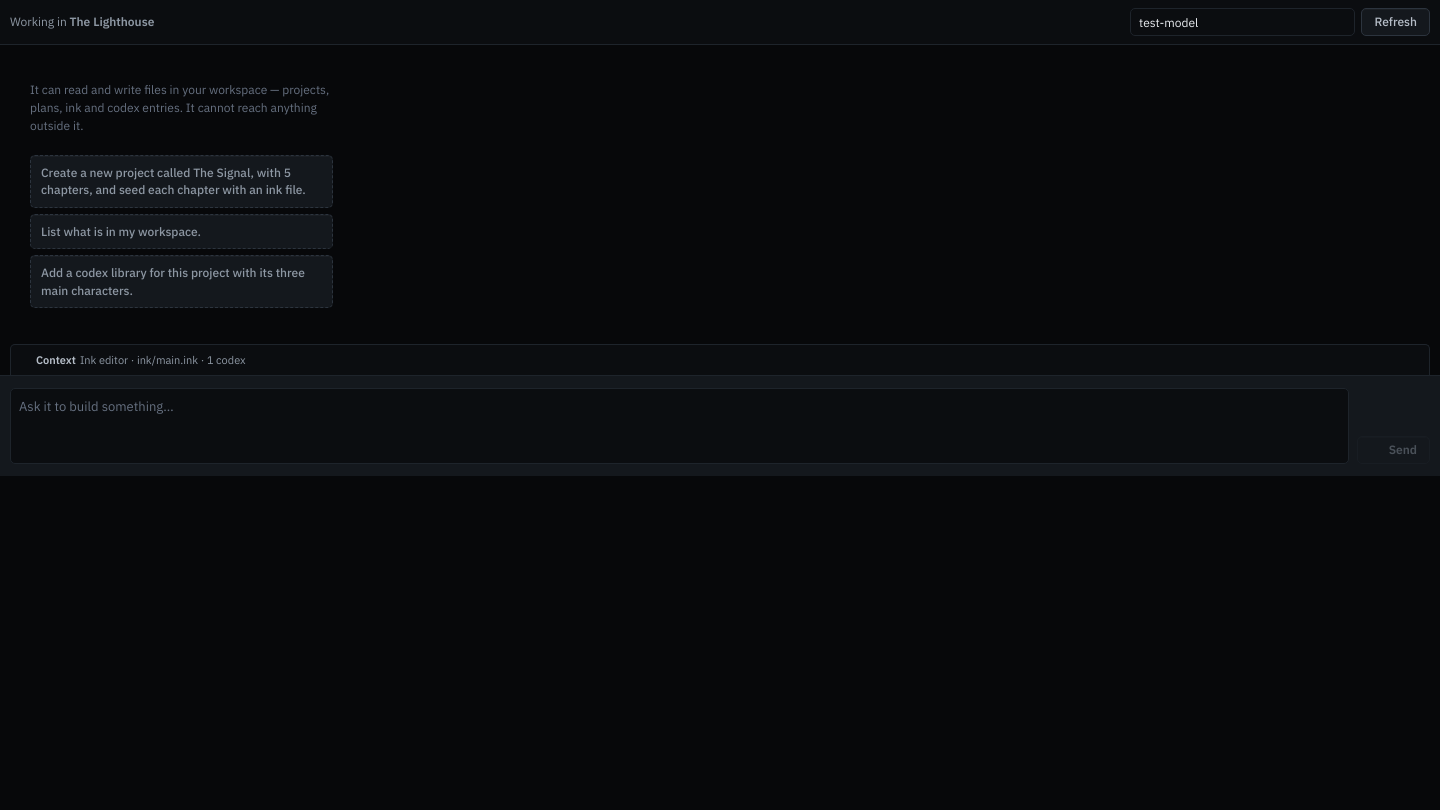
Test: AssistantPanel › shows the detected context above the input and expands its details
Click the button "Context Ink editor · ink/main.ink · 1 codex" at (56, 360), box x1=11 y1=345 x2=1429 y2=375
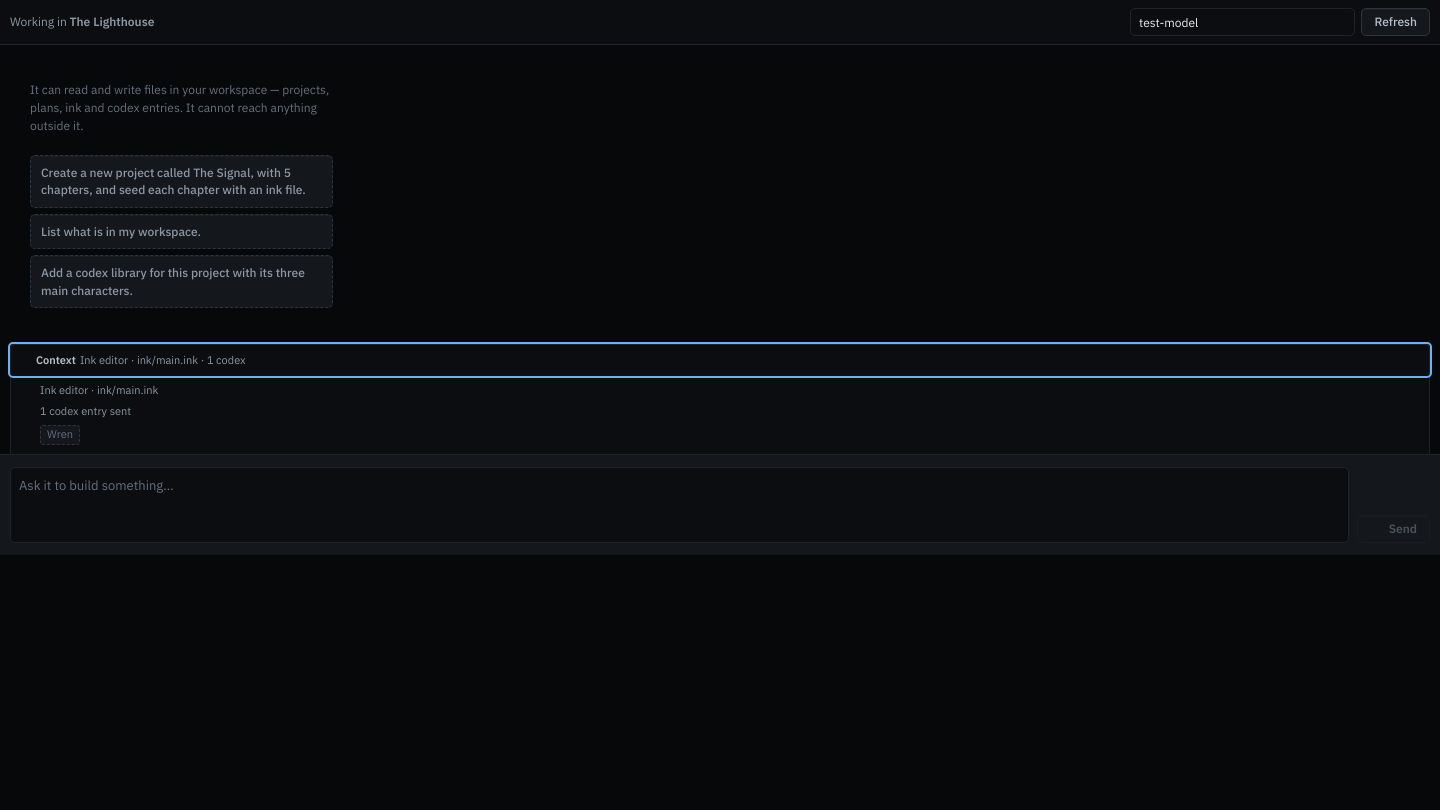
Expected: the text "Wren" is shown, x1=47 y1=427 x2=73 y2=442
